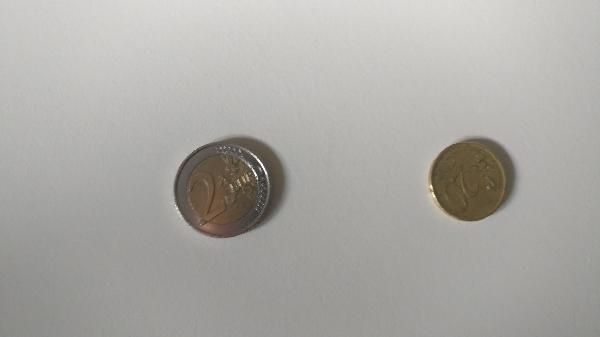Twenty Cent: (428, 142, 508, 221)
Two Euro: (175, 143, 270, 239)
